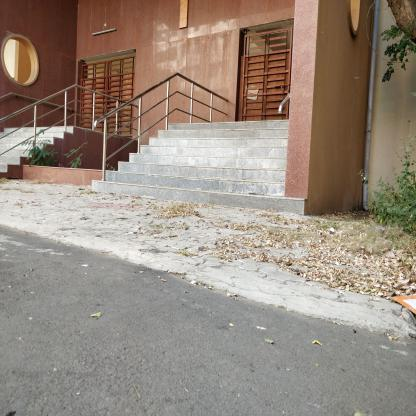stairs: (172, 120, 286, 212)
